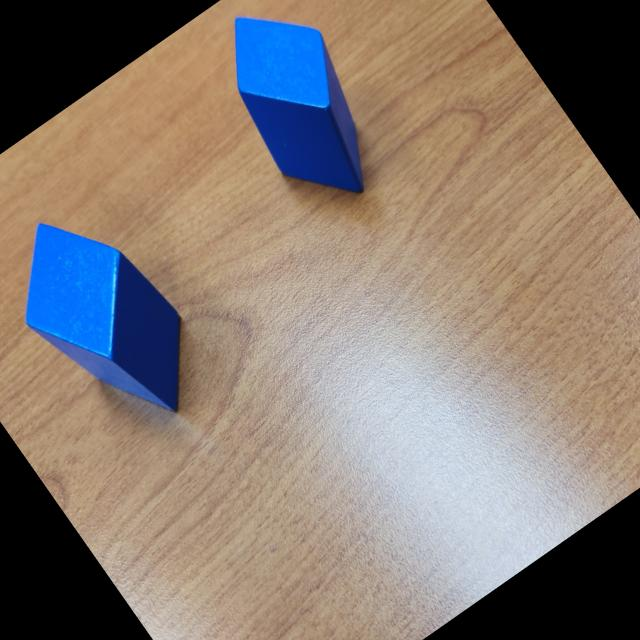blue: (0, 180, 227, 453), (189, 0, 411, 226)
